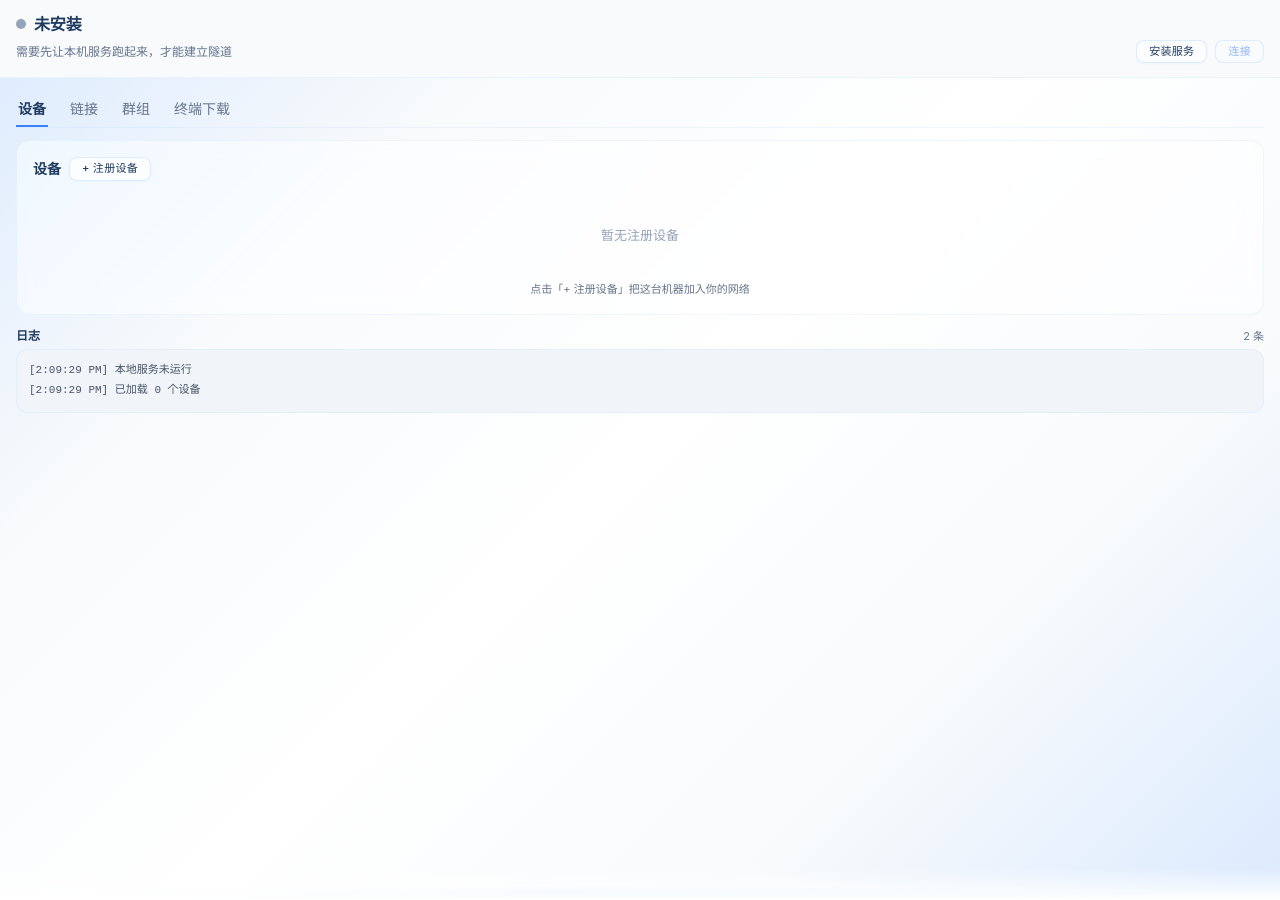
Test: HuanvaeGuardPage (Windows) › 退避耗尽仍未起来：给的是 **Windows** 那句下一步，不是 macOS 的 launchd 措辞
Click the button "安装服务".
click(1172, 52)  # box [1136,40,1207,63]
Wait 7500 ms
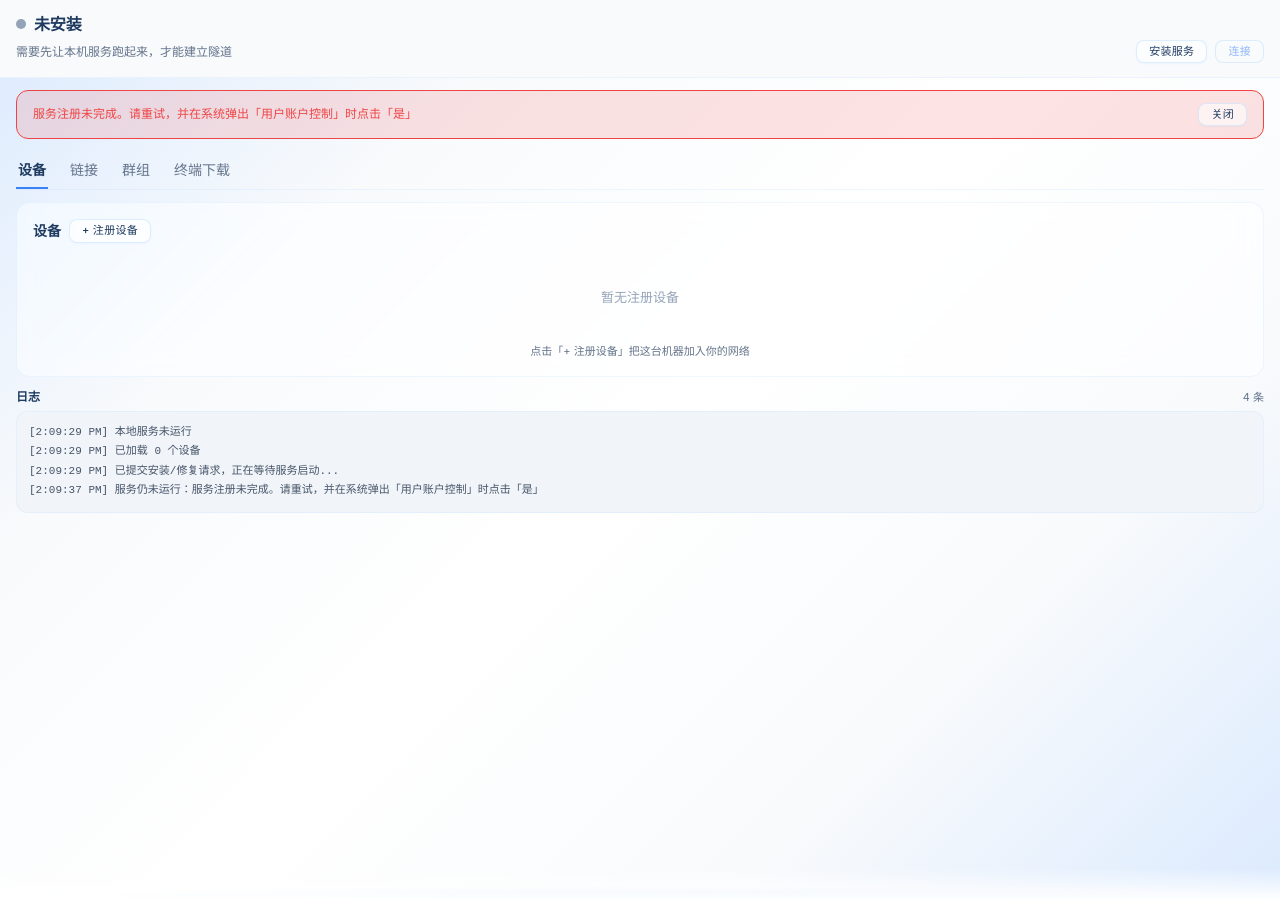
Check: the text "服务注册未完成。请重试，并在系统弹出「用户账户控制」时点击「是」" is shown, box [33,106,417,121]
